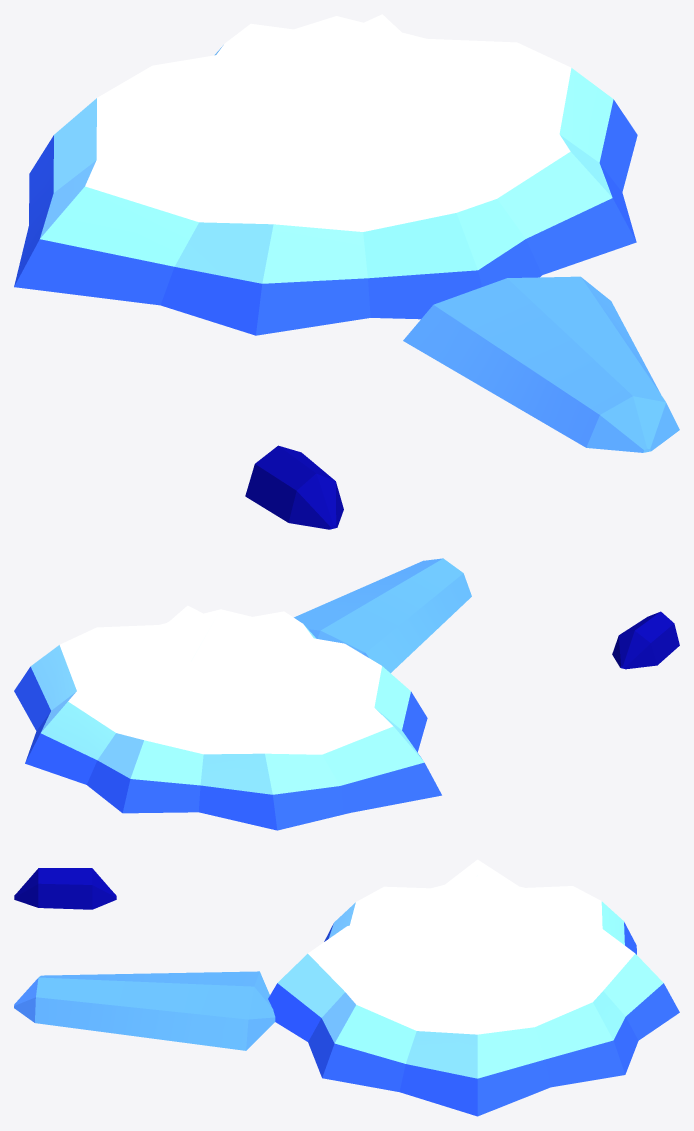
File: shot_ice_140.glb
The picture shows the model from 3 angles, top to bottom: view 1: azimuth 30°, elevation 25°; view 2: azimuth 150°, elevation 25°; view 3: azimuth 270°, elevation 25°; orthographic projection. The views are drawn at different scales.
Parts seen in each view (by area): view 1: shot_ice_140_cap, shot_ice_140_trail; view 2: shot_ice_140_cap, shot_ice_140_trail; view 3: shot_ice_140_cap, shot_ice_140_trail.
Boxes of the visible parts, x1=… form: shot_ice_140_cap: x1=14, y1=14, x2=637, y2=335; shot_ice_140_trail: x1=245, y1=276, x2=679, y2=529; shot_ice_140_cap: x1=14, y1=605, x2=441, y2=830; shot_ice_140_trail: x1=294, y1=558, x2=679, y2=673; shot_ice_140_cap: x1=268, y1=859, x2=679, y2=1116; shot_ice_140_trail: x1=14, y1=868, x2=275, y2=1050.
Bounding box in the file's own units: 10.07 × 2.79 × 12.35.
